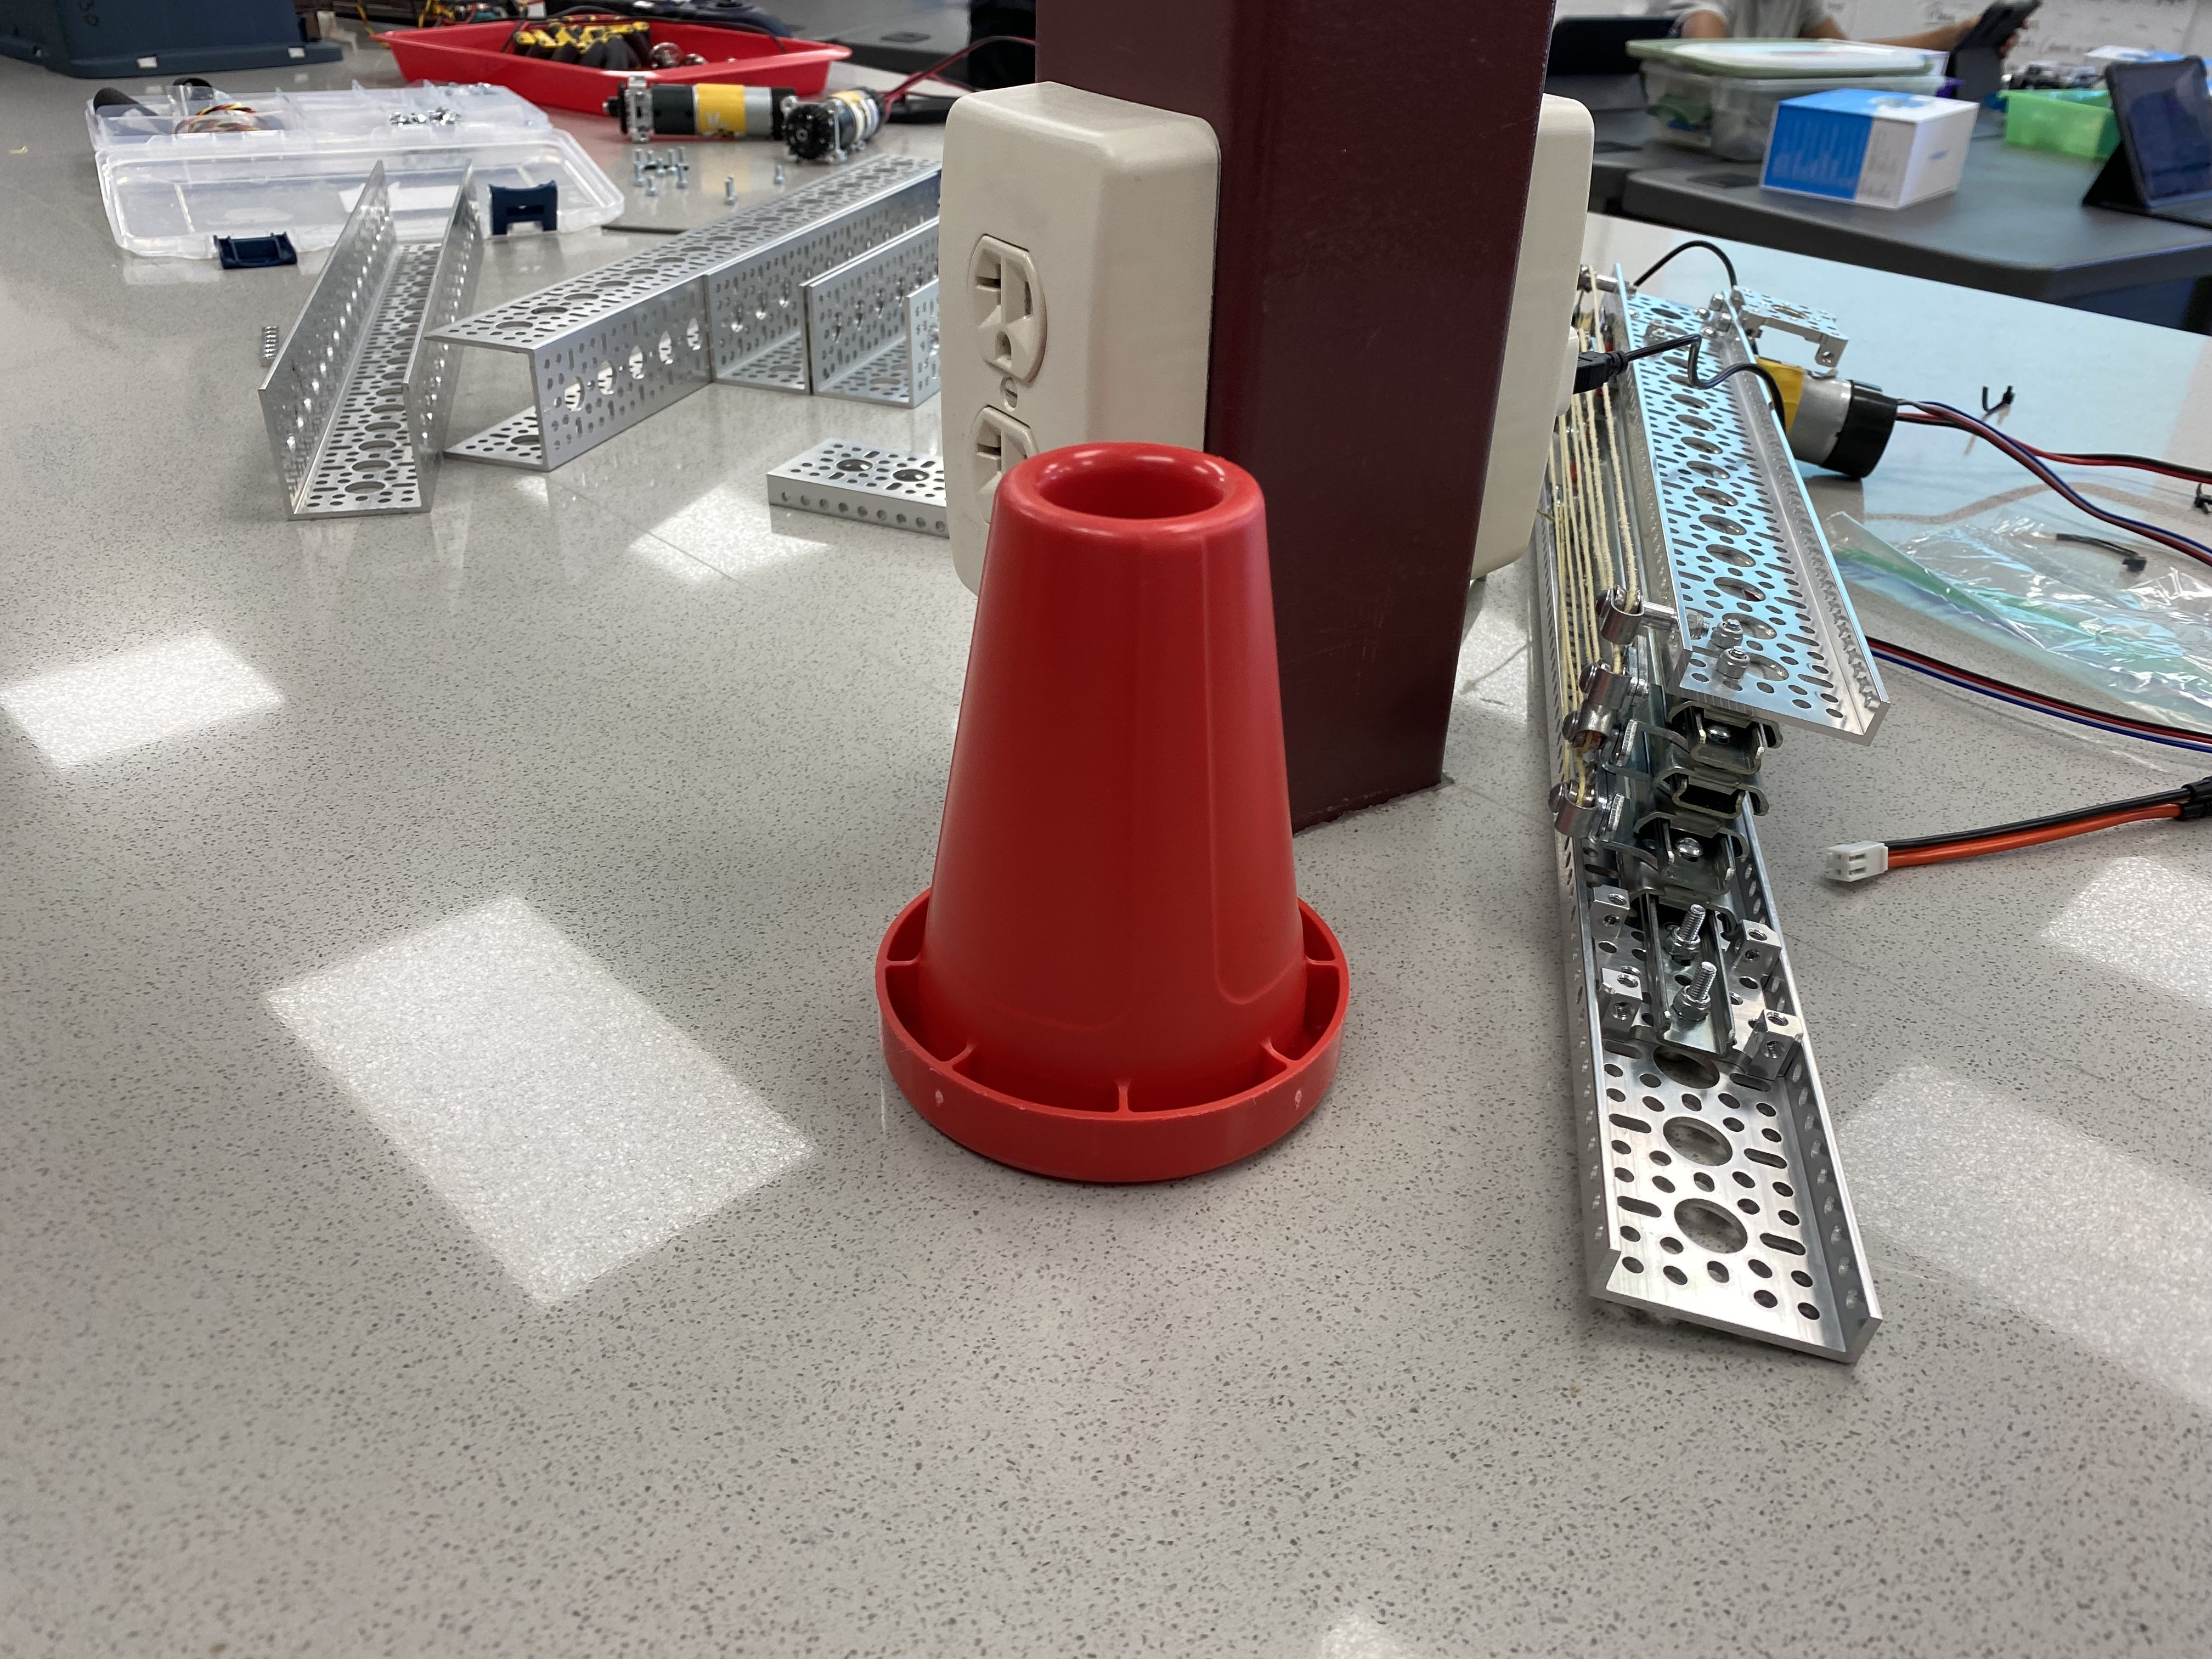redCone: (862, 420, 1362, 1199)
